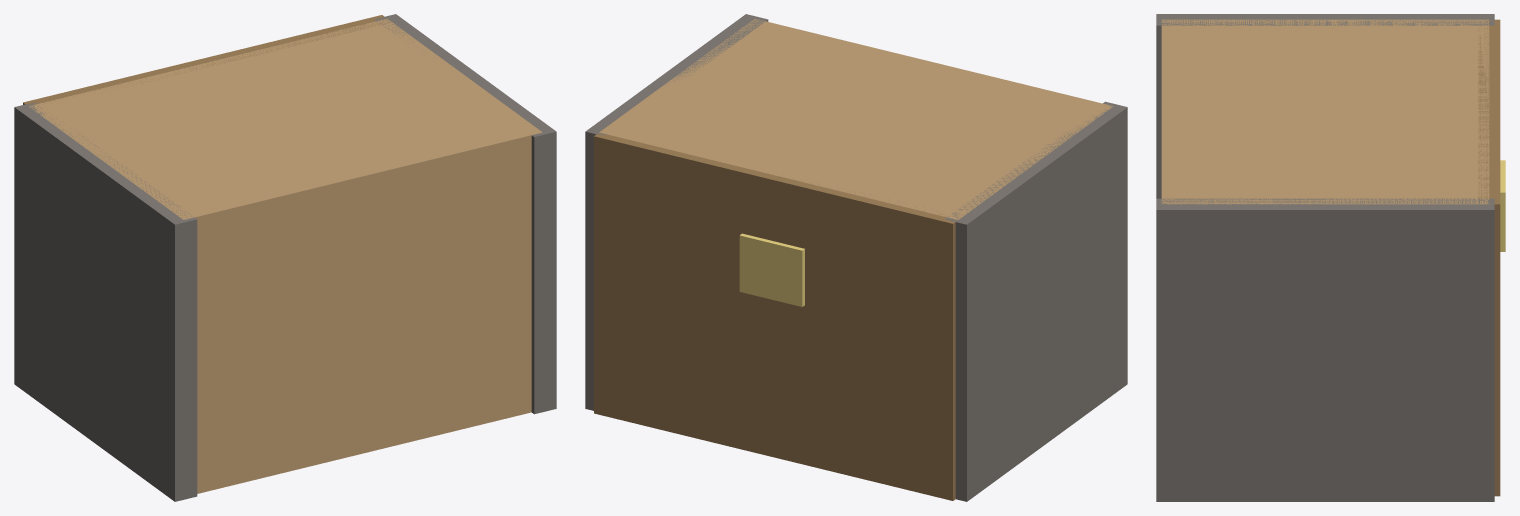
The model's file is struct_chest.glb.
The picture shows the model from 3 angles, left to right: view 1: azimuth 30°, elevation 25°; view 2: azimuth 150°, elevation 25°; view 3: azimuth 270°, elevation 25°; orthographic projection. The views are drawn at different scales.
Parts seen in each view (by area): view 1: ChestLid, ChestBase; view 2: ChestLid, ChestBase; view 3: ChestLid, ChestBase.
Boxes of the visible parts, x1=… form: ChestLid: x1=14, y1=14, x2=556, y2=317; ChestBase: x1=14, y1=192, x2=556, y2=501; ChestLid: x1=585, y1=14, x2=1127, y2=318; ChestBase: x1=585, y1=201, x2=1127, y2=501; ChestLid: x1=1156, y1=14, x2=1505, y2=308; ChestBase: x1=1156, y1=110, x2=1500, y2=501.
Bounding box in the file's own units: 0.85 × 0.59 × 0.64.
